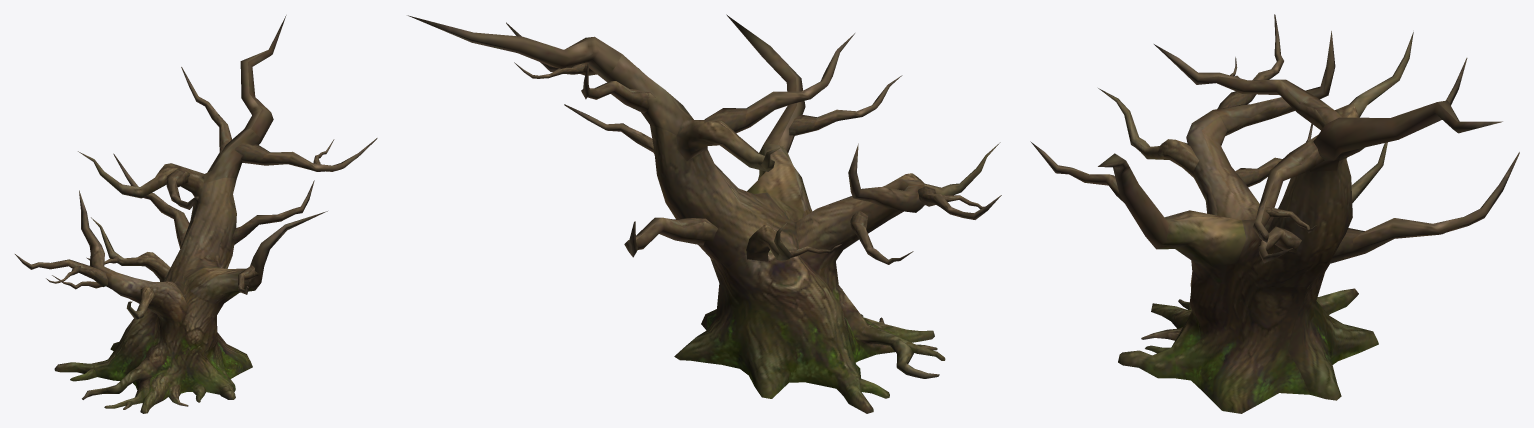
File: S_Tree_Green142.FBX
3 renders of one model, left to right at view 1: azimuth 30°, elevation 25°; view 2: azimuth 150°, elevation 25°; view 3: azimuth 270°, elevation 25°, orthographic. The views are drawn at different scales.
Visible parts, largest first — view 1: S_Tree_Green142; view 2: S_Tree_Green142; view 3: S_Tree_Green142.
Part boxes in pixels (x1,y1,x2,y2): S_Tree_Green142: (15,15,377,413); S_Tree_Green142: (407,14,1001,413); S_Tree_Green142: (1030,14,1519,413).
Bounding box in the file's own units: 278 × 189 × 218.
